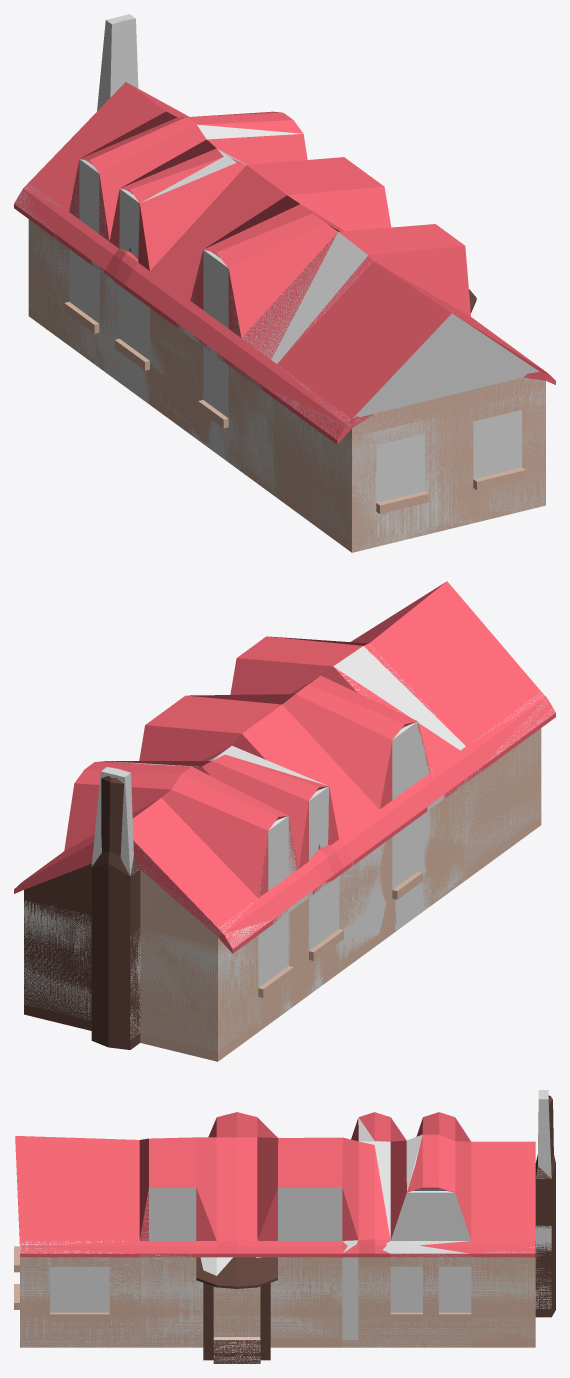
Rendered from M_House1.fbx.
The picture shows the model from 3 angles, top to bottom: view 1: azimuth 30°, elevation 25°; view 2: azimuth 150°, elevation 25°; view 3: azimuth 270°, elevation 25°; orthographic projection. The views are drawn at different scales.
Parts seen in each view (by area): view 1: M_House1, M_House1.001; view 2: M_House1, M_House1.001; view 3: M_House1, M_House1.001.
Part boxes in pixels (left/top/right/bottom): M_House1: left=14, top=82, right=555, bottom=552; M_House1.001: left=14, top=14, right=545, bottom=551; M_House1: left=14, top=581, right=555, bottom=1061; M_House1.001: left=24, top=644, right=555, bottom=1051; M_House1: left=14, top=1095, right=555, bottom=1363; M_House1.001: left=20, top=1090, right=551, bottom=1363.
Size of the model in its own units: 635 by 616 by 1402.
